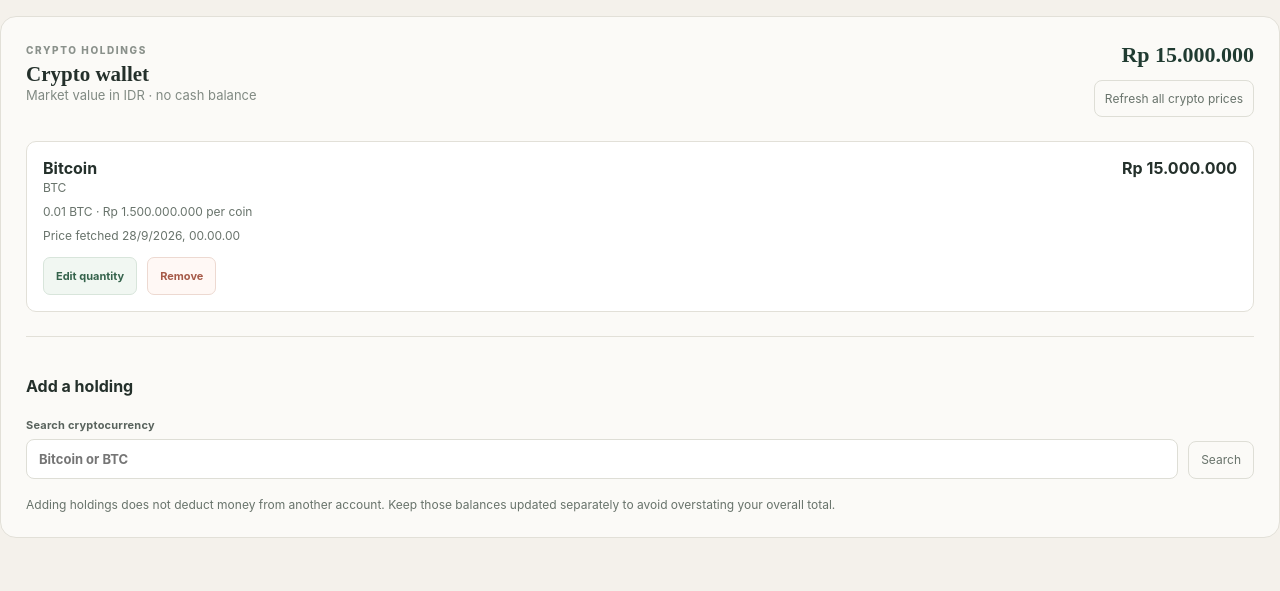
Test: manually refreshes fresh prices and updates the holding without changing quantity
The image size is (1280, 591).
Check: the text "0.01 BTC" is shown, box [43, 204, 252, 219]
Click the button "Refresh all crypto prices" at (1174, 98), box [1094, 80, 1254, 117]
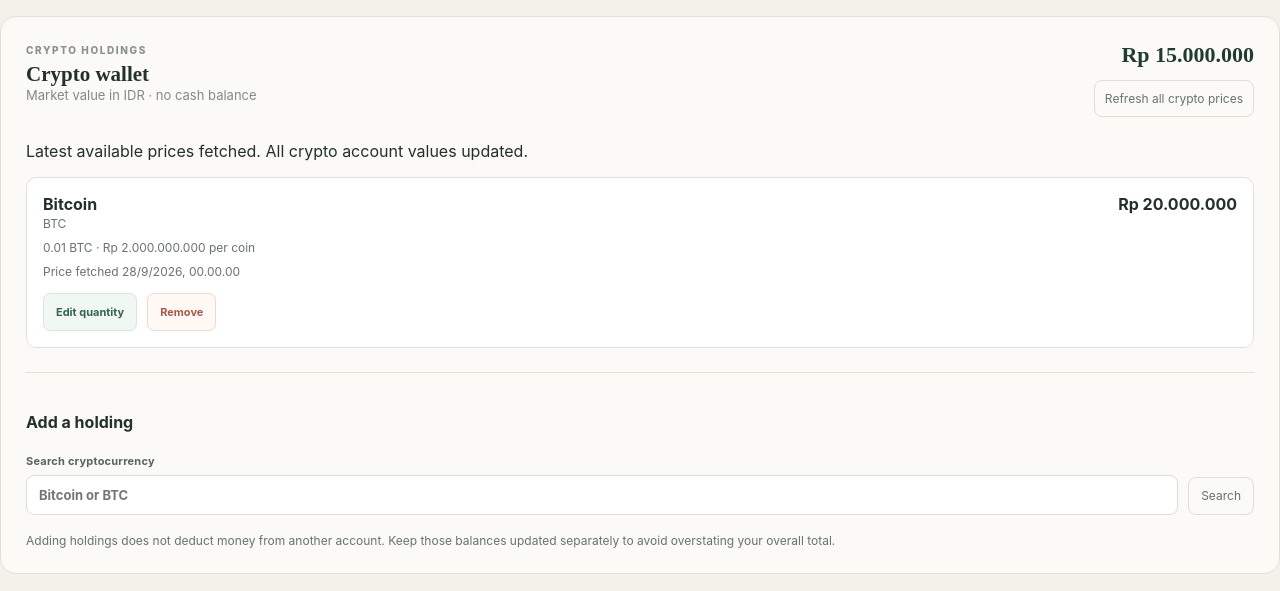
Check: the text "Latest available prices fetched. All crypto account values updated." is shown, box [26, 141, 528, 161]
Check: the text "Rp 2.000.000.000" is shown, box [103, 240, 206, 255]
